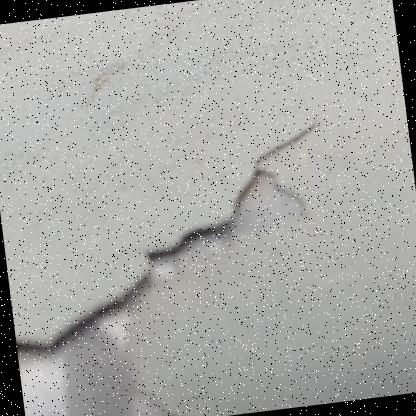Crack: (0, 102, 388, 415)
